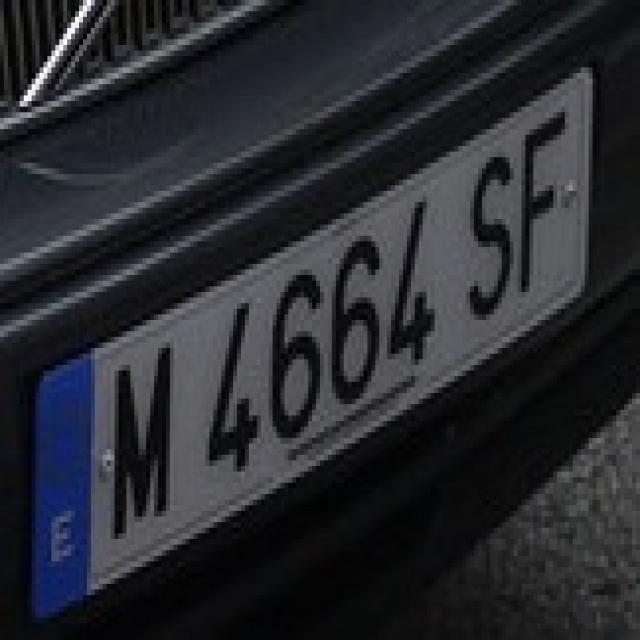LicensePlate: (9, 23, 637, 627)
